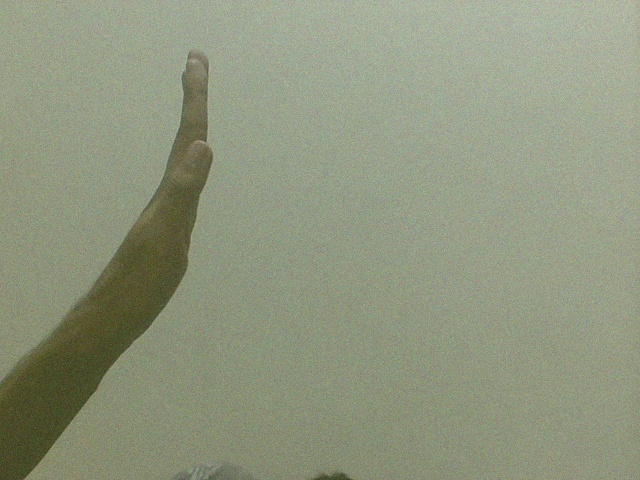hand: (103, 46, 216, 331)
